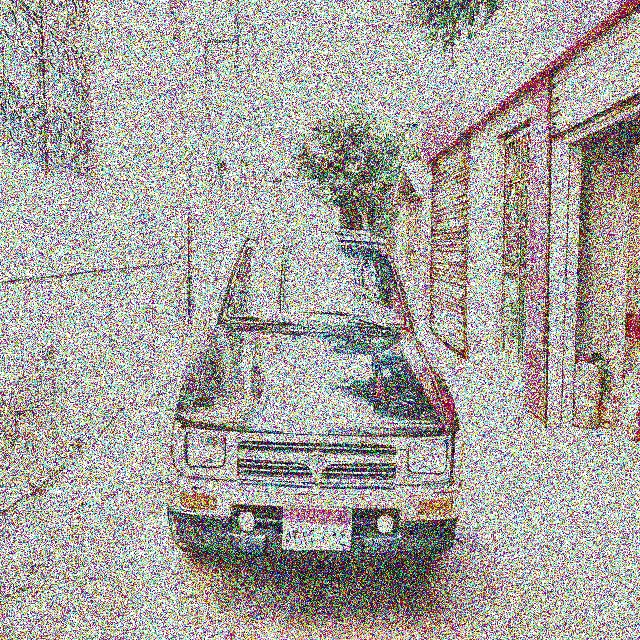License Plate: (280, 507, 353, 554)
